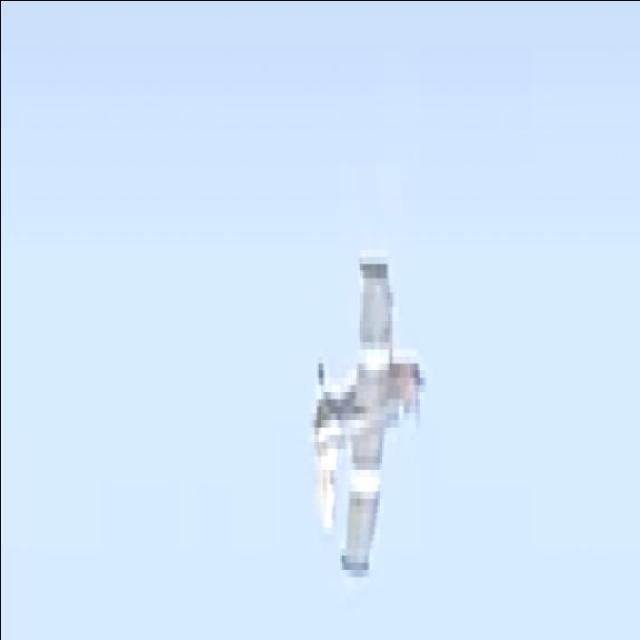plane: (310, 255, 427, 584)
